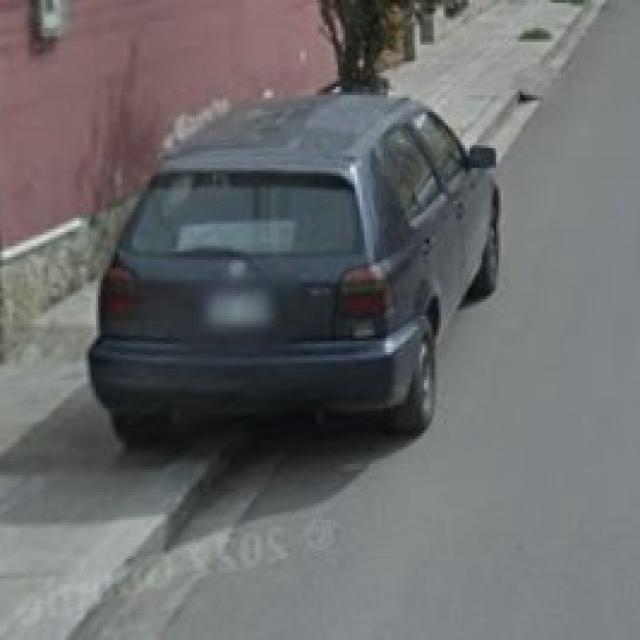Car: (85, 89, 502, 454)
